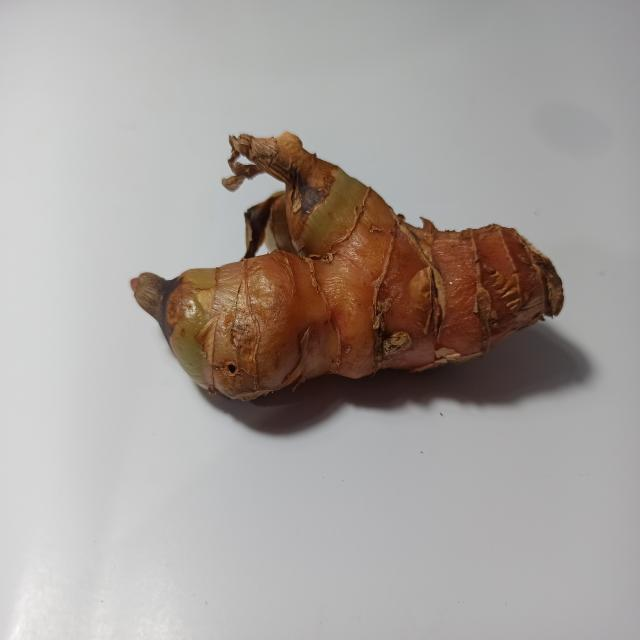ginger: (160, 133, 538, 396)
